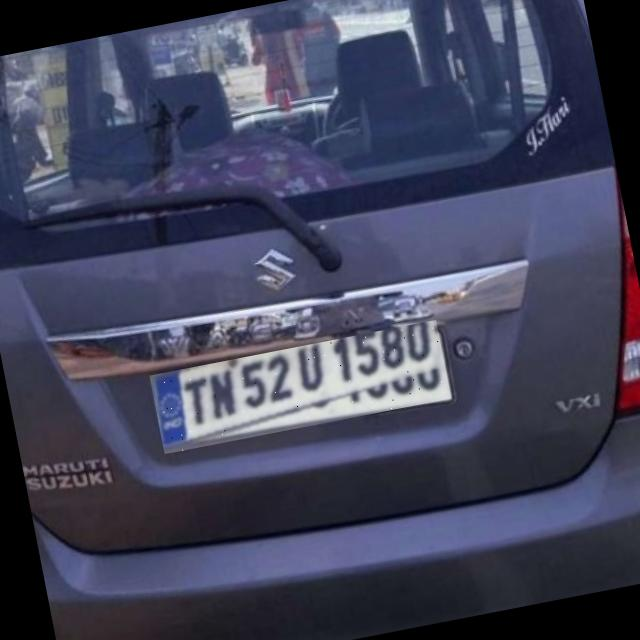Plate: (151, 321, 453, 455)
